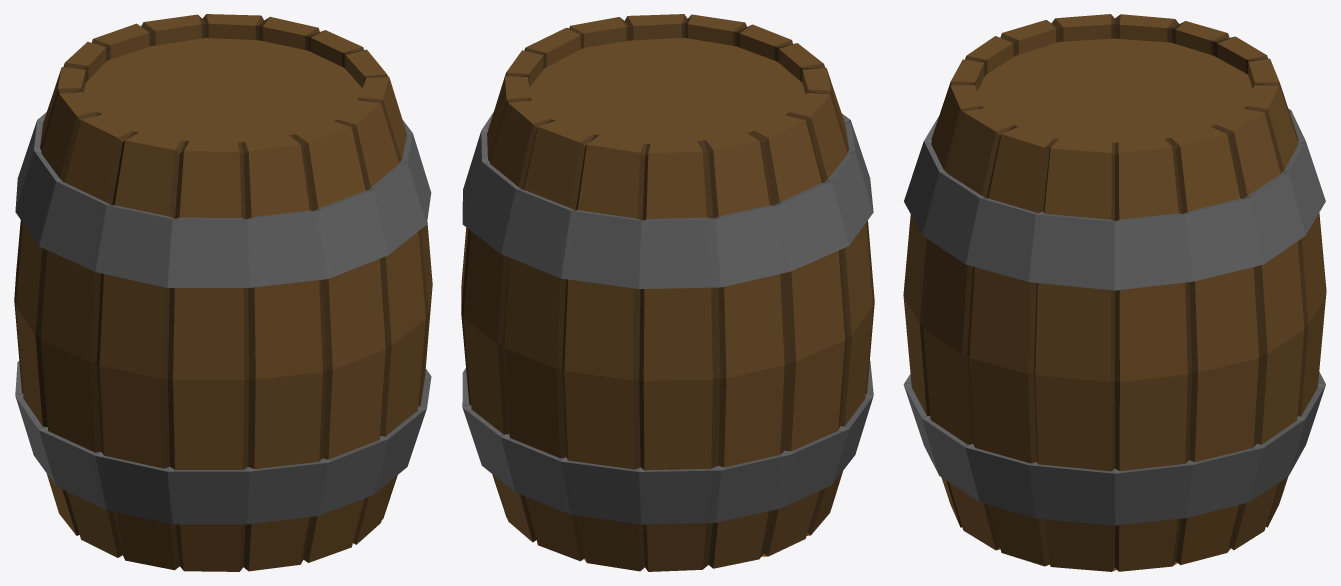
The model's file is Barrel.fbx.
3 views of the same model, side by side, from view 1: azimuth 30°, elevation 25°; view 2: azimuth 150°, elevation 25°; view 3: azimuth 270°, elevation 25° (orthographic).
Visible parts, largest first — view 1: Cylinder; view 2: Cylinder; view 3: Cylinder.
Boxes of the visible parts, box(x1,y1,x2,y2) form: Cylinder: box(14, 14, 432, 571); Cylinder: box(461, 14, 874, 571); Cylinder: box(903, 14, 1326, 571).
Size of the model in its own units: 217 by 237 by 217.
Materials: 1 (1 with a texture image).
